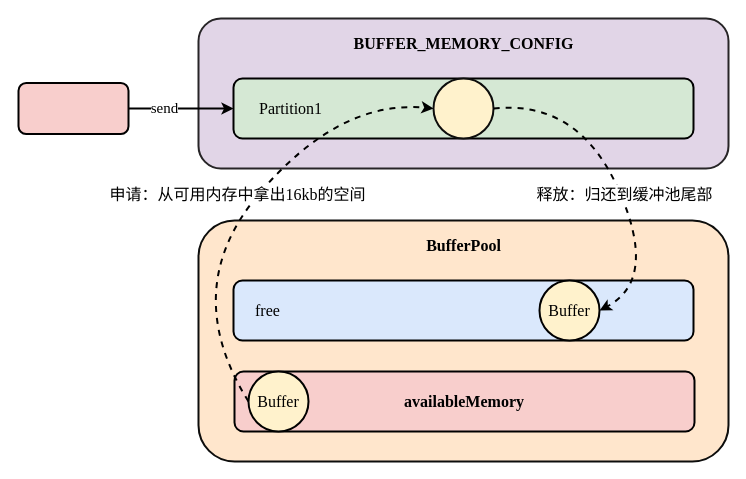
Image size: 746x479. Some labels were removed from this diagram. The centre of each missing label's shape, as x and y in pixels:
"Batch" belongs at pixel 463 108.
"Producer" belongs at pixel 73 108.
